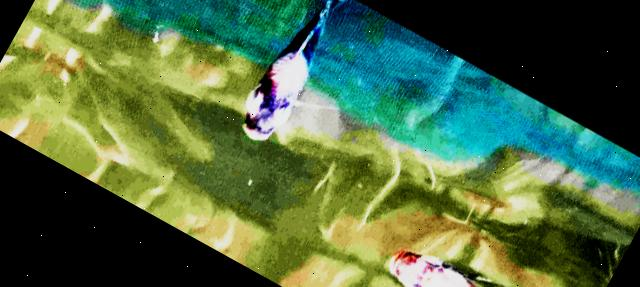Columnaris Disease: (243, 0, 338, 139), (388, 250, 490, 287)
